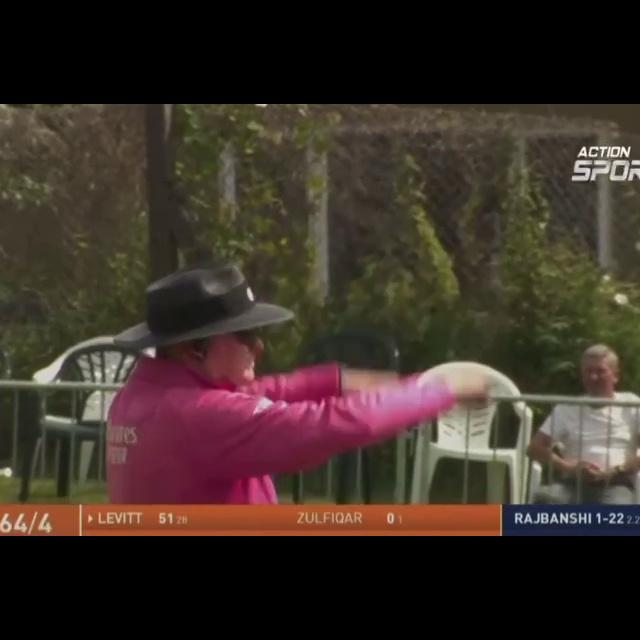umpire: (45, 161, 557, 506)
